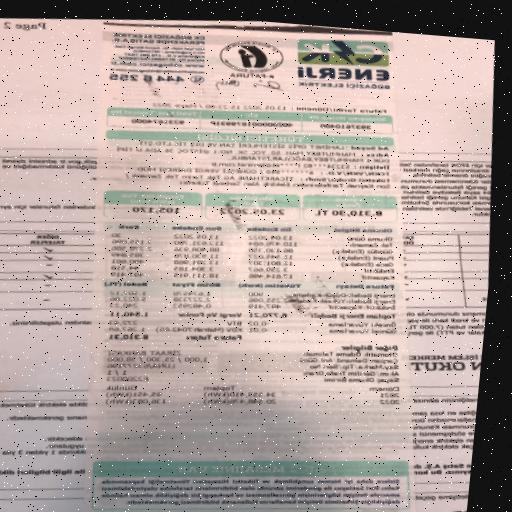electricity-bill: (86, 19, 415, 512)
